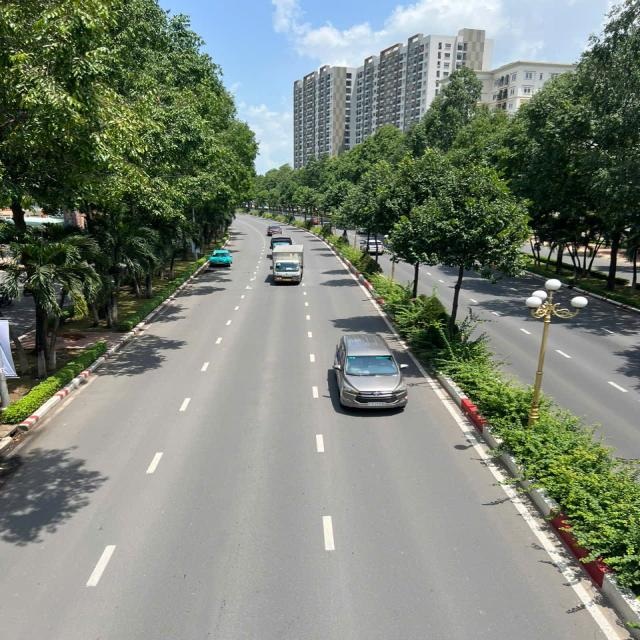ben: (270, 242, 306, 287)
car: (334, 330, 412, 415), (205, 247, 236, 270), (362, 236, 388, 258), (267, 224, 285, 239)
